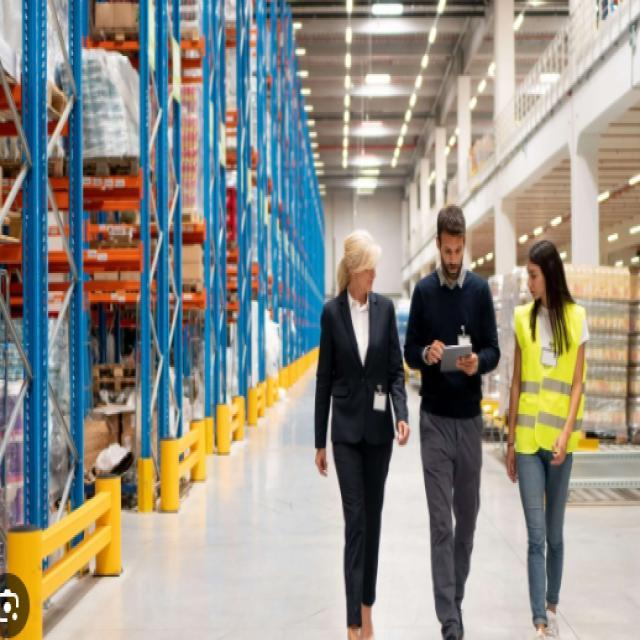vest: (510, 296, 590, 469)
